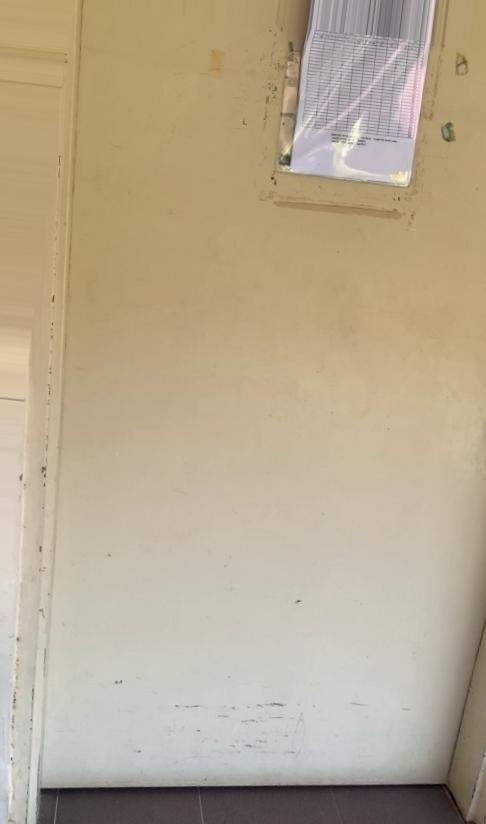door: (26, 0, 486, 824)
